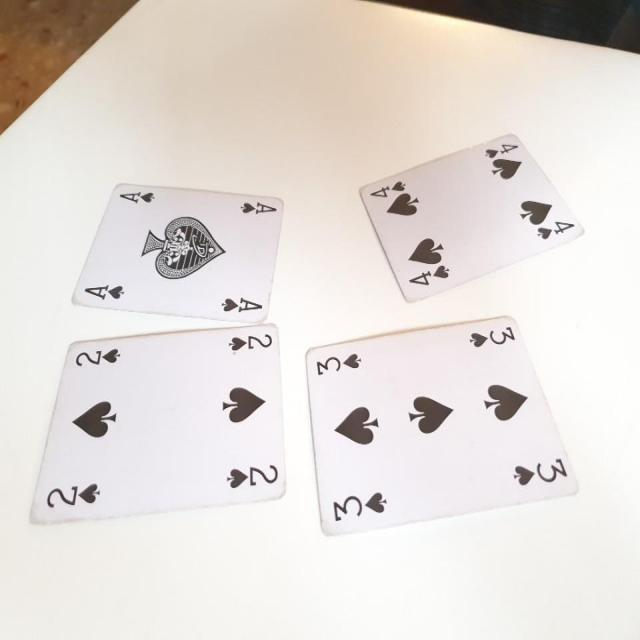2 Spades: (39, 324, 289, 520)
3 Spades: (305, 316, 579, 540)
4 Spades: (358, 134, 588, 307)
A Spades: (71, 178, 278, 319)
